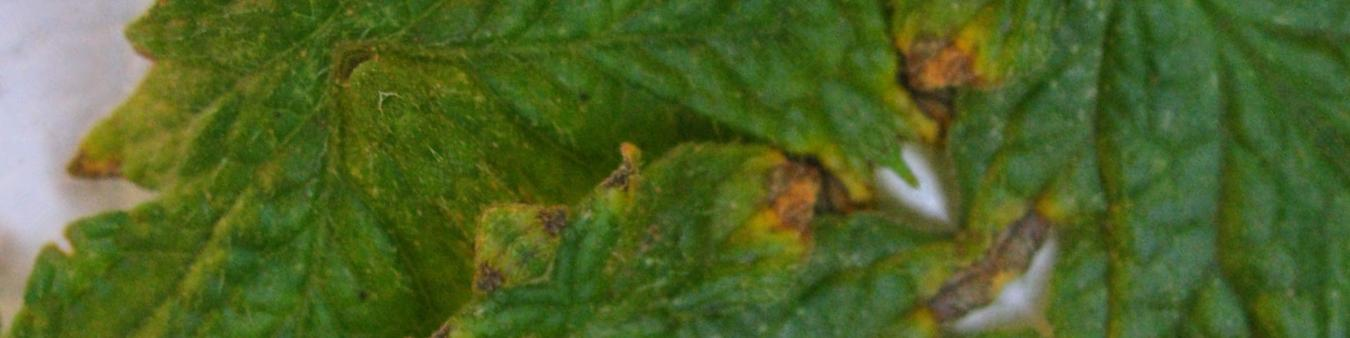Tomato Septoria leaf spot: (246, 0, 1251, 338), (193, 0, 1000, 338)
